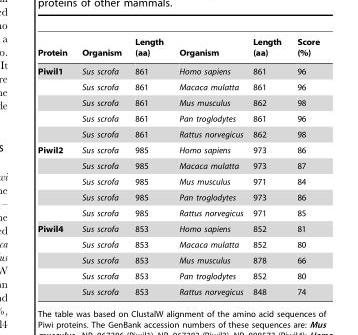table: (37, 37, 319, 296)
table column: (170, 37, 247, 296), (73, 37, 127, 296), (127, 37, 170, 296), (247, 37, 288, 296), (37, 37, 73, 296), (288, 37, 319, 296)
table column header: (37, 37, 319, 61)
table row: (37, 37, 319, 61), (37, 61, 319, 79), (37, 94, 319, 110), (37, 110, 319, 126), (37, 126, 319, 142), (37, 157, 319, 173), (37, 173, 319, 189), (37, 189, 319, 205), (37, 220, 319, 236), (37, 236, 319, 252), (37, 252, 319, 268), (37, 79, 319, 94), (37, 142, 319, 157), (37, 205, 319, 220), (37, 268, 319, 283), (37, 283, 319, 296)
table spanning cell: (37, 61, 73, 142), (37, 142, 73, 220), (37, 220, 73, 296)
